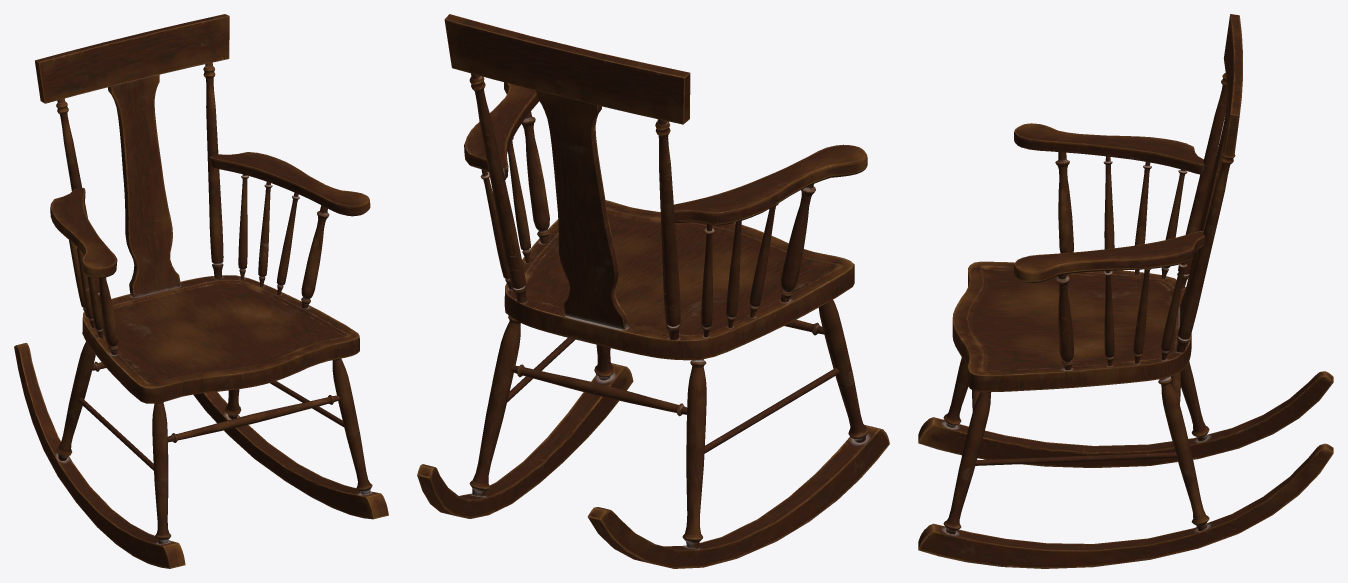
Rendered from Rockingchair_01.glb.
3 renders of one model, left to right at view 1: azimuth 30°, elevation 25°; view 2: azimuth 150°, elevation 25°; view 3: azimuth 270°, elevation 25°, orthographic. The views are drawn at different scales.
Visible parts, largest first — view 1: Rockingchair_01; view 2: Rockingchair_01; view 3: Rockingchair_01.
Part boxes in pixels (x1,y1,x2,y2): Rockingchair_01: (14, 14, 388, 568); Rockingchair_01: (417, 14, 889, 568); Rockingchair_01: (918, 14, 1333, 568).
Size of the model in its own units: 0.7081 by 0.9949 by 0.8335.
1 material, 1 textured.
